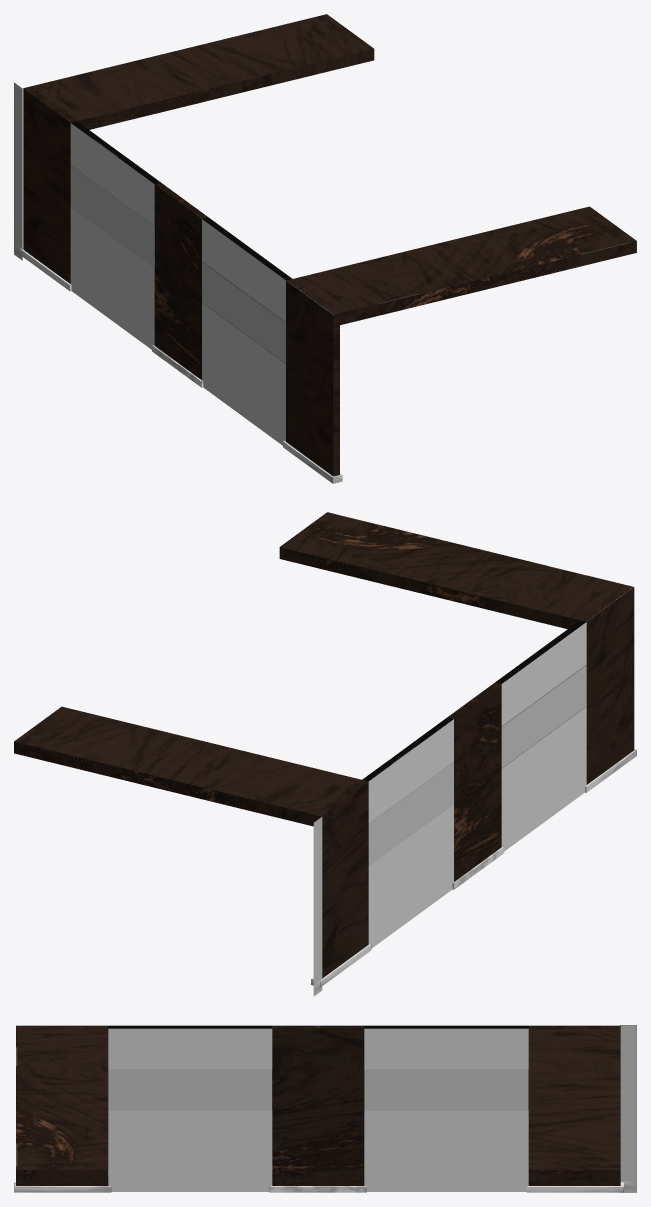
File: paredes_2.gltf
3 renders of one model, top to bottom at view 1: azimuth 30°, elevation 25°; view 2: azimuth 150°, elevation 25°; view 3: azimuth 270°, elevation 25°, orthographic. The views are drawn at different scales.
Parts seen in each view (by area): view 1: Plane.005; view 2: Plane.005; view 3: Plane.005.
Boxes of the visible parts, x1=… form: Plane.005: x1=14, y1=14, x2=636, y2=483; Plane.005: x1=14, y1=512, x2=636, y2=996; Plane.005: x1=14, y1=1025, x2=636, y2=1192.
Size of the model in its own units: 2.79 by 1.51 by 5.06.
Materials: 2 (1 with a texture image).
